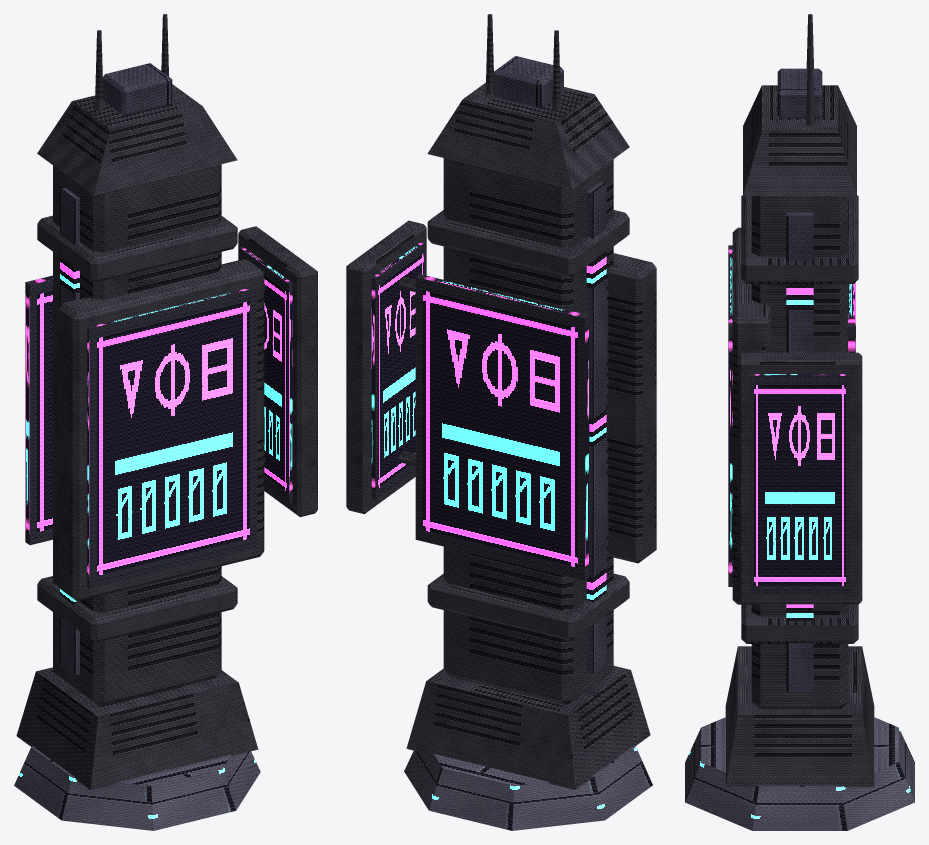
The model's file is holo_pillar.glb.
3 views of the same model, side by side, from view 1: azimuth 30°, elevation 25°; view 2: azimuth 150°, elevation 25°; view 3: azimuth 270°, elevation 25° (orthographic).
Parts seen in each view (by area): view 1: holo_pillar__city_roof_mech, holo_pillar__city_neon_sign, holo_pillar__city_sidewalk_hex, holo_pillar__city_wall_neon; view 2: holo_pillar__city_roof_mech, holo_pillar__city_neon_sign, holo_pillar__city_sidewalk_hex, holo_pillar__city_wall_neon; view 3: holo_pillar__city_roof_mech, holo_pillar__city_neon_sign, holo_pillar__city_sidewalk_hex, holo_pillar__city_wall_neon.
Boxes of the visible parts, box(x1,y1,x2,y2) form: holo_pillar__city_roof_mech: box(16, 14, 317, 790); holo_pillar__city_neon_sign: box(25, 246, 292, 588); holo_pillar__city_sidewalk_hex: box(14, 746, 260, 830); holo_pillar__city_wall_neon: box(60, 63, 172, 675); holo_pillar__city_roof_mech: box(346, 14, 656, 789); holo_pillar__city_neon_sign: box(371, 241, 589, 580); holo_pillar__city_sidewalk_hex: box(404, 745, 652, 830); holo_pillar__city_wall_neon: box(493, 56, 606, 674); holo_pillar__city_roof_mech: box(725, 14, 874, 787); holo_pillar__city_neon_sign: box(728, 245, 855, 594); holo_pillar__city_sidewalk_hex: box(685, 717, 914, 830); holo_pillar__city_wall_neon: box(777, 68, 822, 691).
Bounding box in the file's own units: 1.7 × 4.8 × 1.33.
4 materials, 4 textured.
